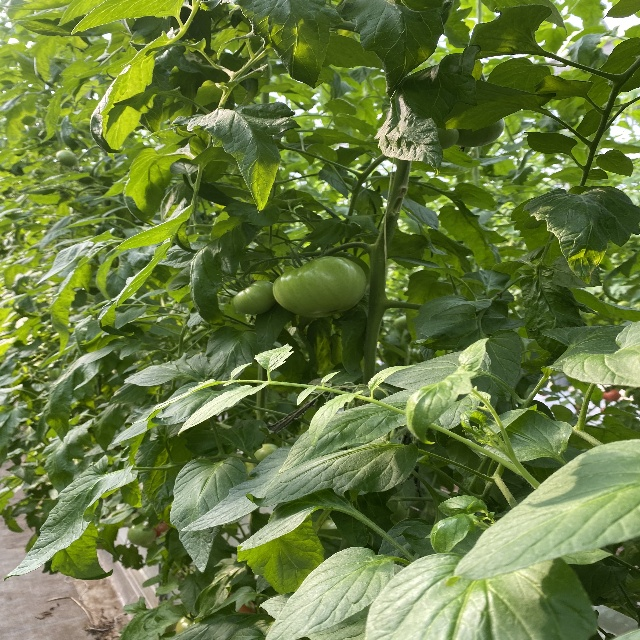b_green: (273, 257, 367, 318), (231, 280, 276, 315), (454, 117, 505, 147), (438, 128, 460, 149)
